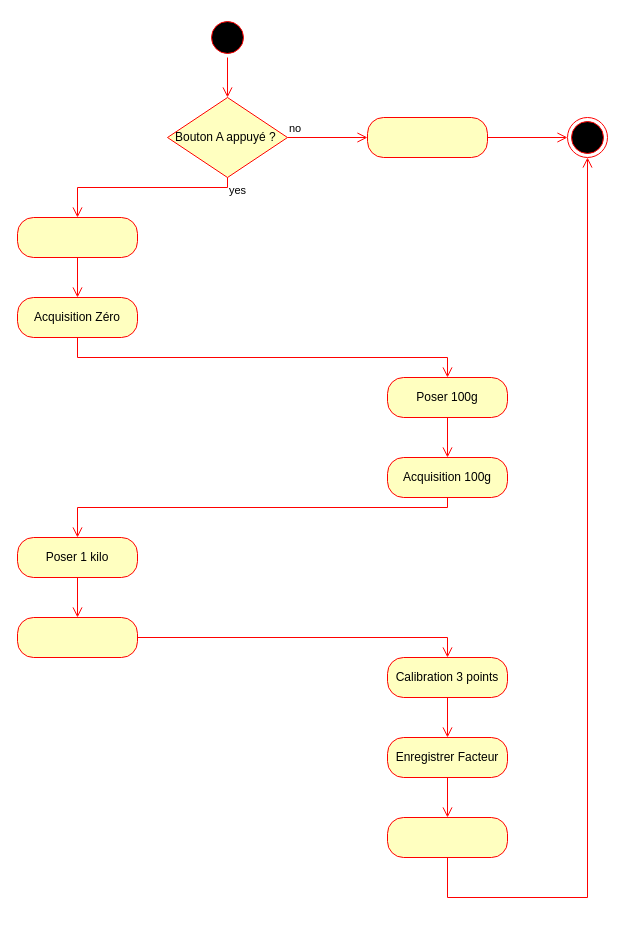
The diagram is 625 pixels wide and 925 high, and some of its shapes have lost their labels. Each missing label, with the box of its shape:
acquisition 1 kilo: (16, 616, 138, 658)
Calibration impossible: (366, 116, 488, 158)
Calibration OK: (386, 816, 508, 858)
Retirer la masse: (16, 216, 138, 258)
